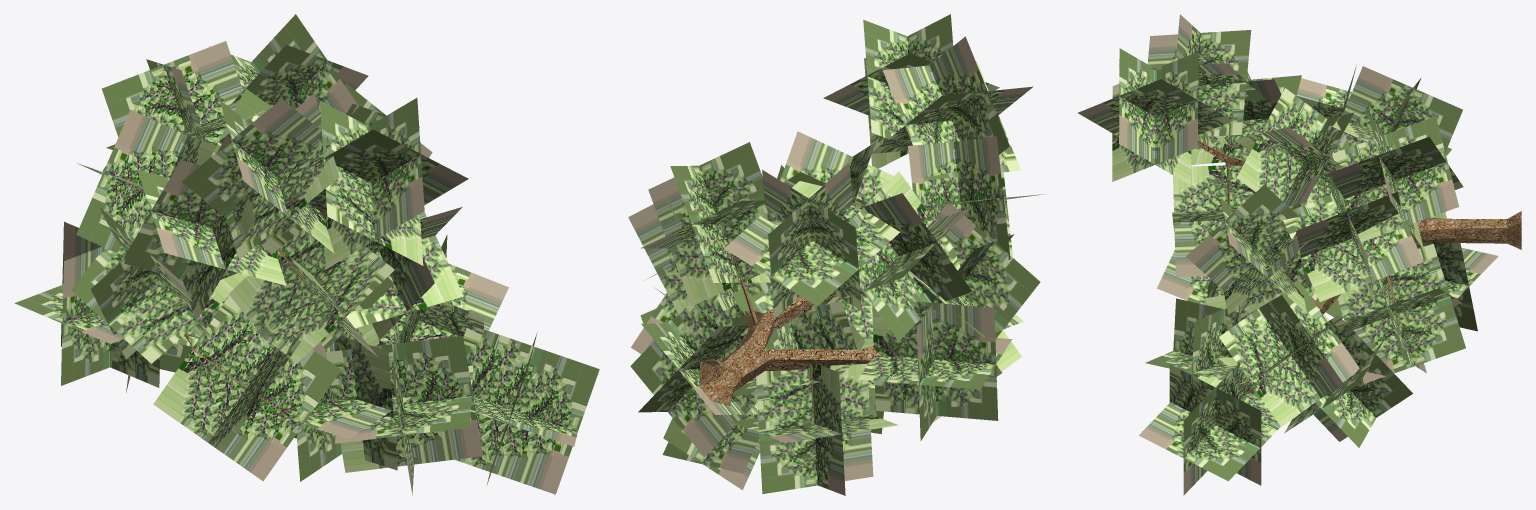
File: oaktree_wtf.obj
The picture shows the model from 3 angles, left to right: view 1: azimuth 30°, elevation 25°; view 2: azimuth 150°, elevation 25°; view 3: azimuth 270°, elevation 25°; orthographic projection. The views are drawn at different scales.
Parts seen in each view (by area): view 1: group4; view 2: group4, group3; view 3: group4, group3.
Boxes of the visible parts, x1=… form: group4: x1=14, y1=14, x2=599, y2=495; group4: x1=628, y1=14, x2=1045, y2=495; group3: x1=699, y1=227, x2=967, y2=423; group4: x1=1078, y1=14, x2=1498, y2=495; group3: x1=1198, y1=96, x2=1521, y2=399.
Size of the model in its own units: 650 by 612 by 660.
